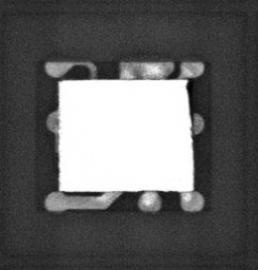DIE_BROKEN: (183, 75, 195, 124)
